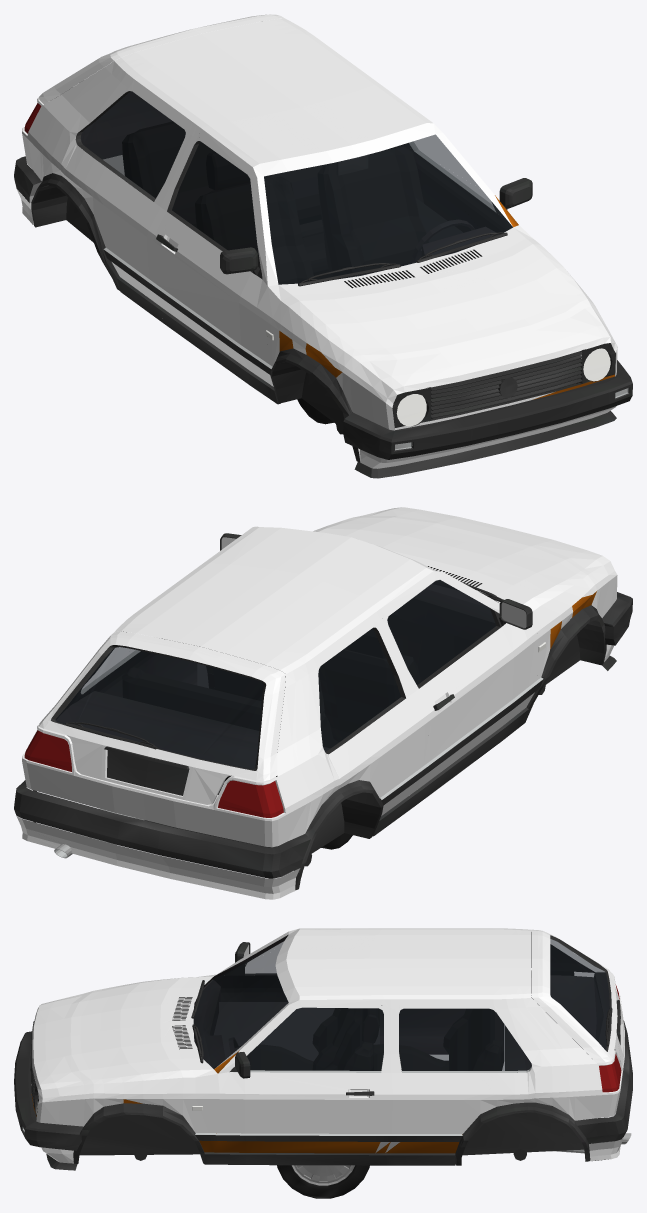
The model's file is golf.glb.
3 renders of one model, top to bottom at view 1: azimuth 30°, elevation 25°; view 2: azimuth 150°, elevation 25°; view 3: azimuth 270°, elevation 25°, orthographic. The views are drawn at different scales.
Parts seen in each view (by area): view 1: body_paint, body_trim, body_glass, doorR_paint, doorR_glass, doorL_trim, doorR_trim, doorL_glass, body_head, doorL_paint; view 2: body_paint, body_trim, body_glass, doorR_paint, doorR_glass, doorR_trim, body_brake, doorL_trim, doorR_chrome, body_chrome; view 3: body_paint, body_trim, body_glass, doorL_paint, doorL_glass, doorR_trim, doorL_trim, wheel_rim, doorL_chrome, body_chrome, body_brake.
Boxes of the visible parts, left/top/right/bottom form: body_paint: left=17, top=14, right=617, bottom=468; body_trim: left=14, top=89, right=632, bottom=478; body_glass: left=81, top=91, right=487, bottom=280; doorR_paint: left=150, top=133, right=298, bottom=386; doorR_glass: left=172, top=142, right=311, bottom=284; doorL_trim: left=393, top=143, right=532, bottom=243; doorR_trim: left=151, top=141, right=317, bottom=395; doorL_glass: left=434, top=155, right=512, bottom=237; body_head: left=266, top=330, right=610, bottom=426; doorL_paint: left=443, top=133, right=528, bottom=235; body_paint: left=16, top=507, right=617, bottom=899; body_trim: left=14, top=566, right=632, bottom=890; body_glass: left=55, top=628, right=400, bottom=769; doorR_paint: left=382, top=572, right=538, bottom=789; doorR_glass: left=387, top=580, right=495, bottom=684; doorR_trim: left=387, top=595, right=538, bottom=795; body_brake: left=24, top=730, right=283, bottom=817; doorL_trim: left=156, top=533, right=241, bottom=688; doorR_chrome: left=427, top=602, right=538, bottom=765; body_chrome: left=54, top=650, right=543, bottom=858; body_paint: left=31, top=928, right=624, bottom=1163; body_trim: left=14, top=932, right=632, bottom=1170; body_glass: left=193, top=939, right=609, bottom=1070; doorL_paint: left=203, top=1004, right=386, bottom=1152; doorL_glass: left=205, top=1007, right=383, bottom=1070; doorR_trim: left=203, top=939, right=383, bottom=1061; doorL_trim: left=203, top=1044, right=386, bottom=1158; wheel_rim: left=277, top=1165, right=369, bottom=1198; doorL_chrome: left=203, top=1053, right=386, bottom=1135; body_chrome: left=22, top=1052, right=631, bottom=1153; body_brake: left=599, top=984, right=621, bottom=1092.
Size of the model in its own units: 1.87 by 1.67 by 3.99.
